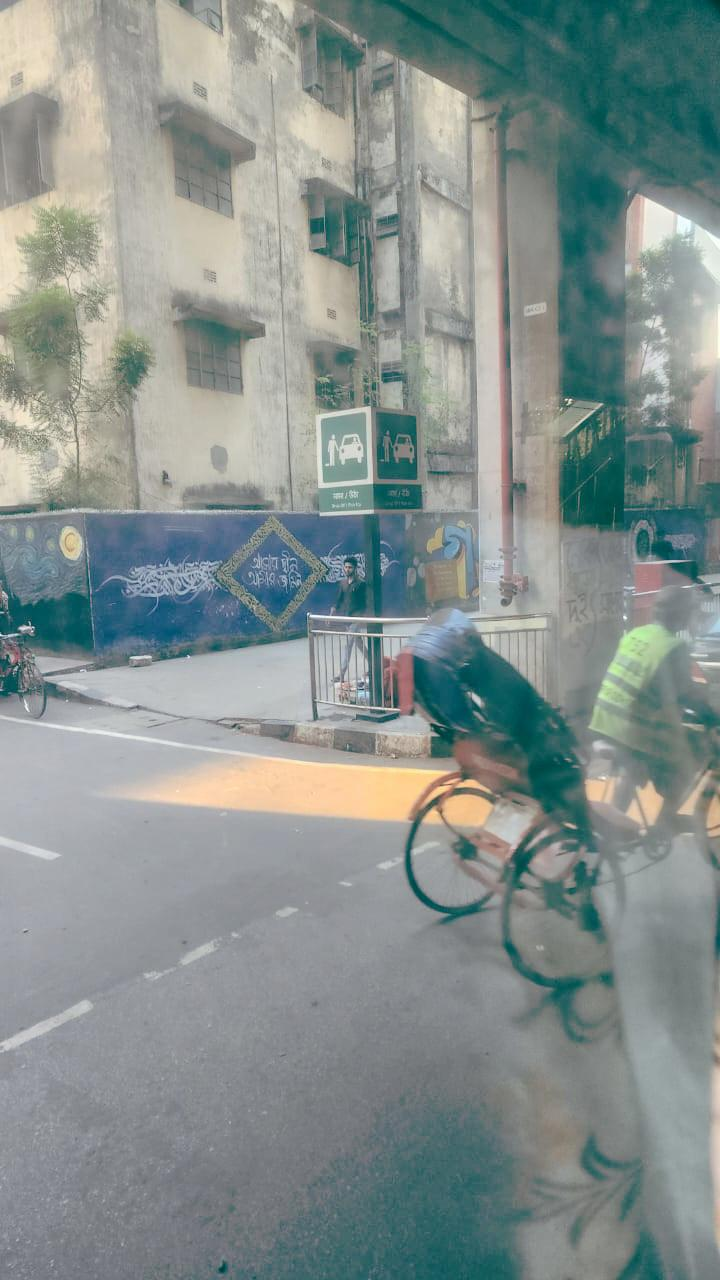Metro Dorp Up Pick up: (313, 407, 421, 512)
